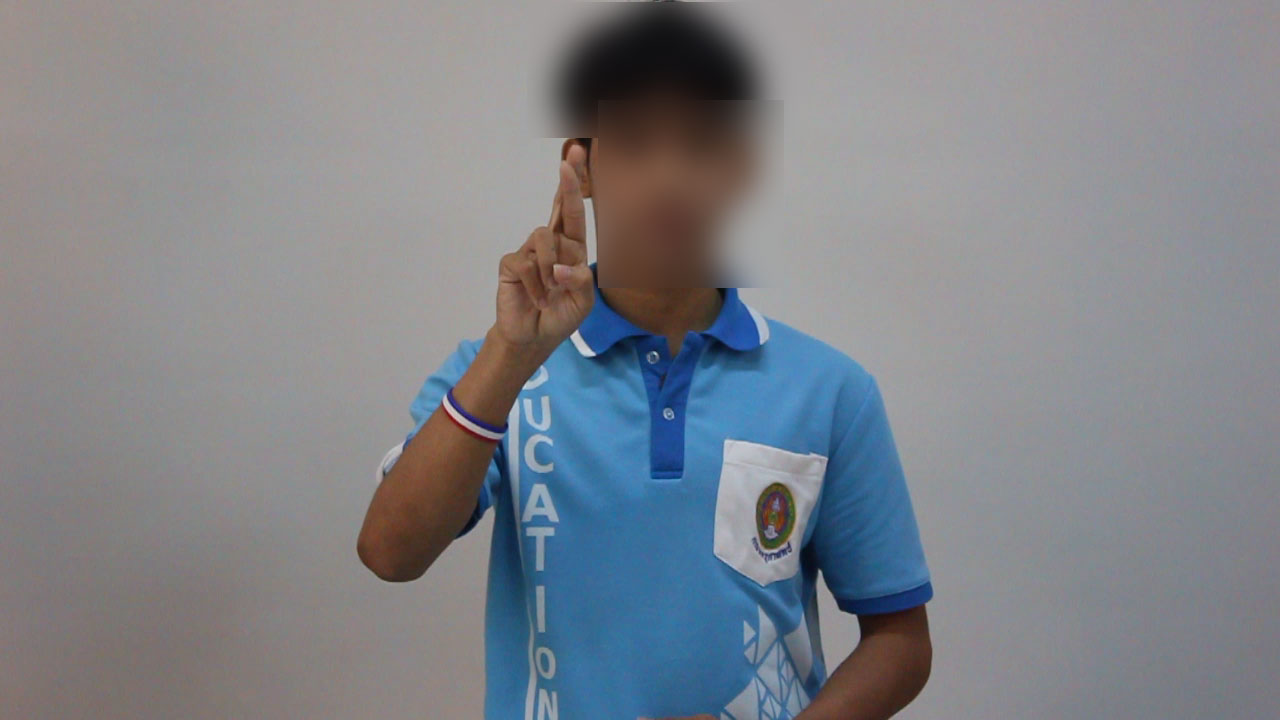rao: (466, 138, 605, 342)
